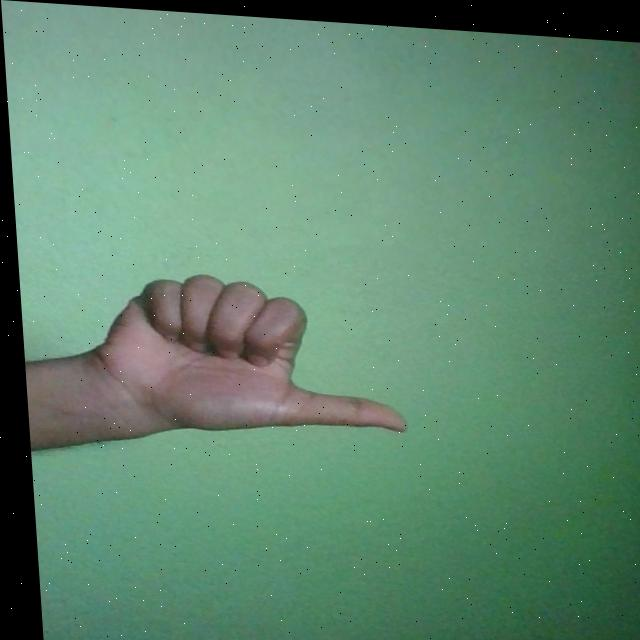Good Job: (78, 264, 403, 439)
